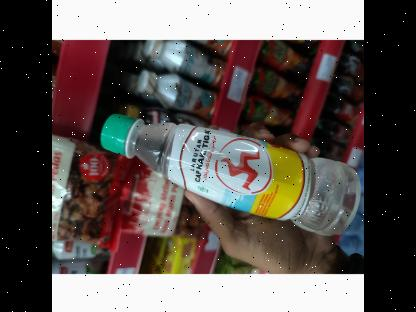Plastic Bottle: (90, 116, 364, 268)
